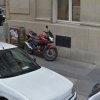Motorcycle: (19, 27, 65, 66)
